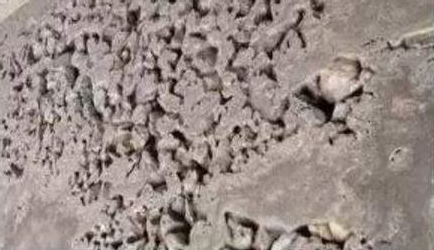Spalling: (1, 1, 434, 203), (75, 204, 373, 250)
